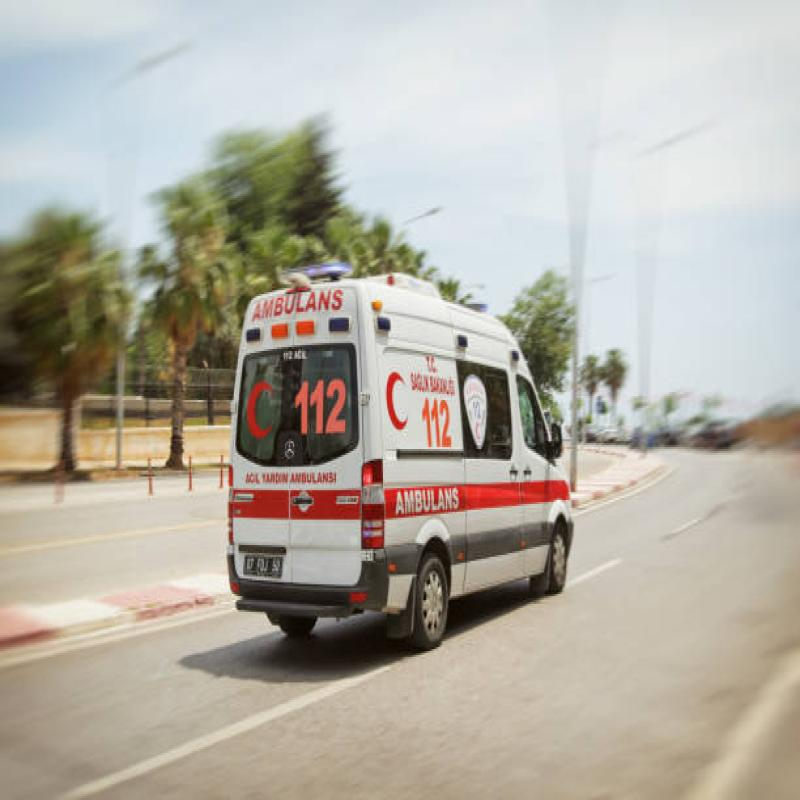ambulance: (222, 253, 585, 653)
